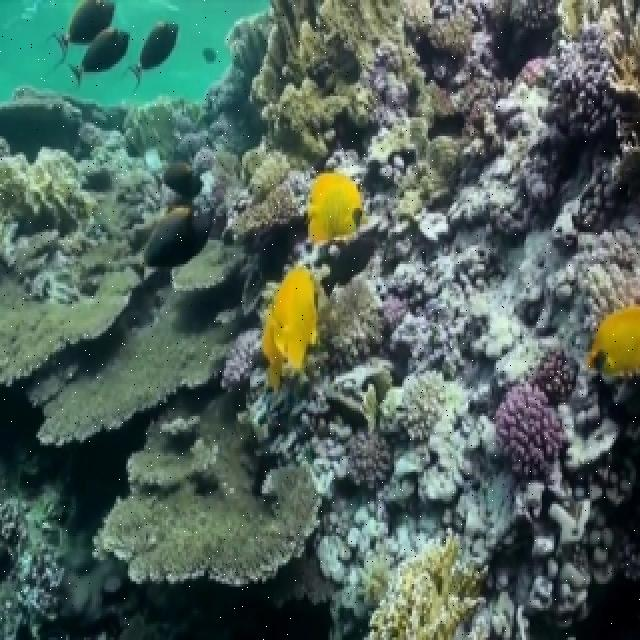fish: (118, 205, 212, 290), (261, 261, 323, 388), (305, 174, 363, 244), (52, 1, 114, 64), (67, 30, 130, 85), (126, 24, 179, 88), (592, 305, 637, 377), (163, 163, 206, 196)
reefs: (417, 0, 638, 234), (370, 532, 487, 637), (497, 342, 580, 478), (349, 429, 394, 491)
